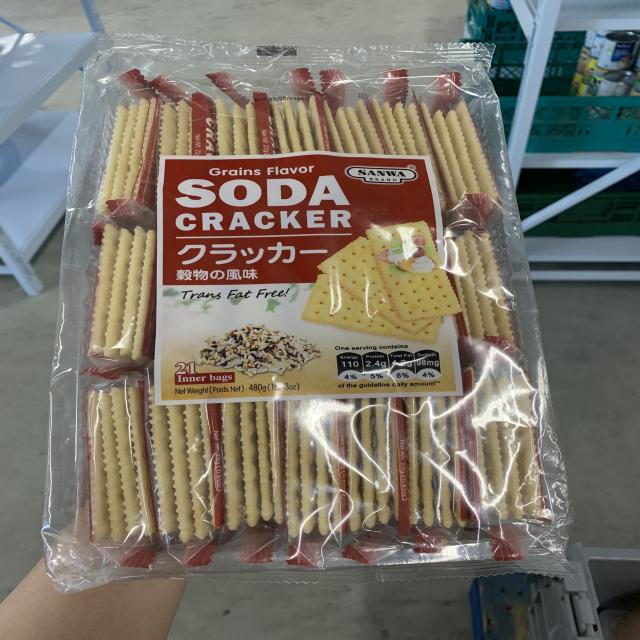object_name: (73, 45, 542, 566)
